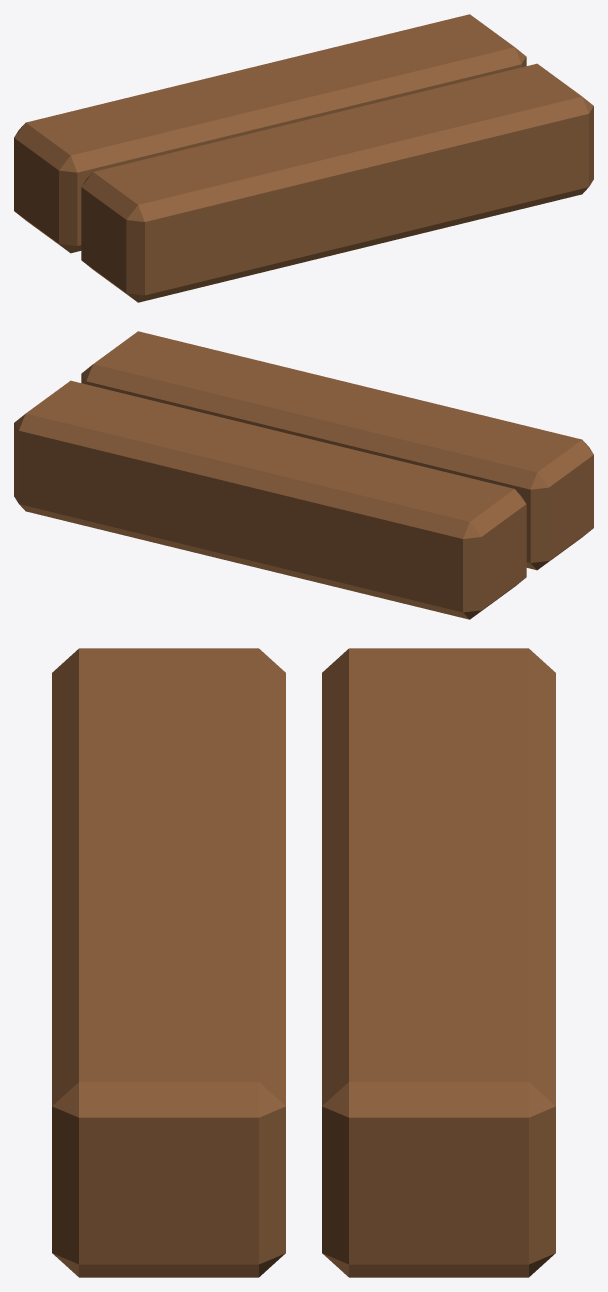
Rendered from hardwood.glb.
The picture shows the model from 3 angles, top to bottom: view 1: azimuth 30°, elevation 25°; view 2: azimuth 150°, elevation 25°; view 3: azimuth 270°, elevation 25°; orthographic projection. The views are drawn at different scales.
Parts seen in each view (by area): view 1: board; view 2: board; view 3: board.
Part boxes in pixels (x1,y1,x2,y2): board: (14, 14, 593, 302); board: (14, 331, 593, 619); board: (52, 648, 555, 1277).
Bounding box in the file's own units: 0.6 × 0.12 × 0.28.
